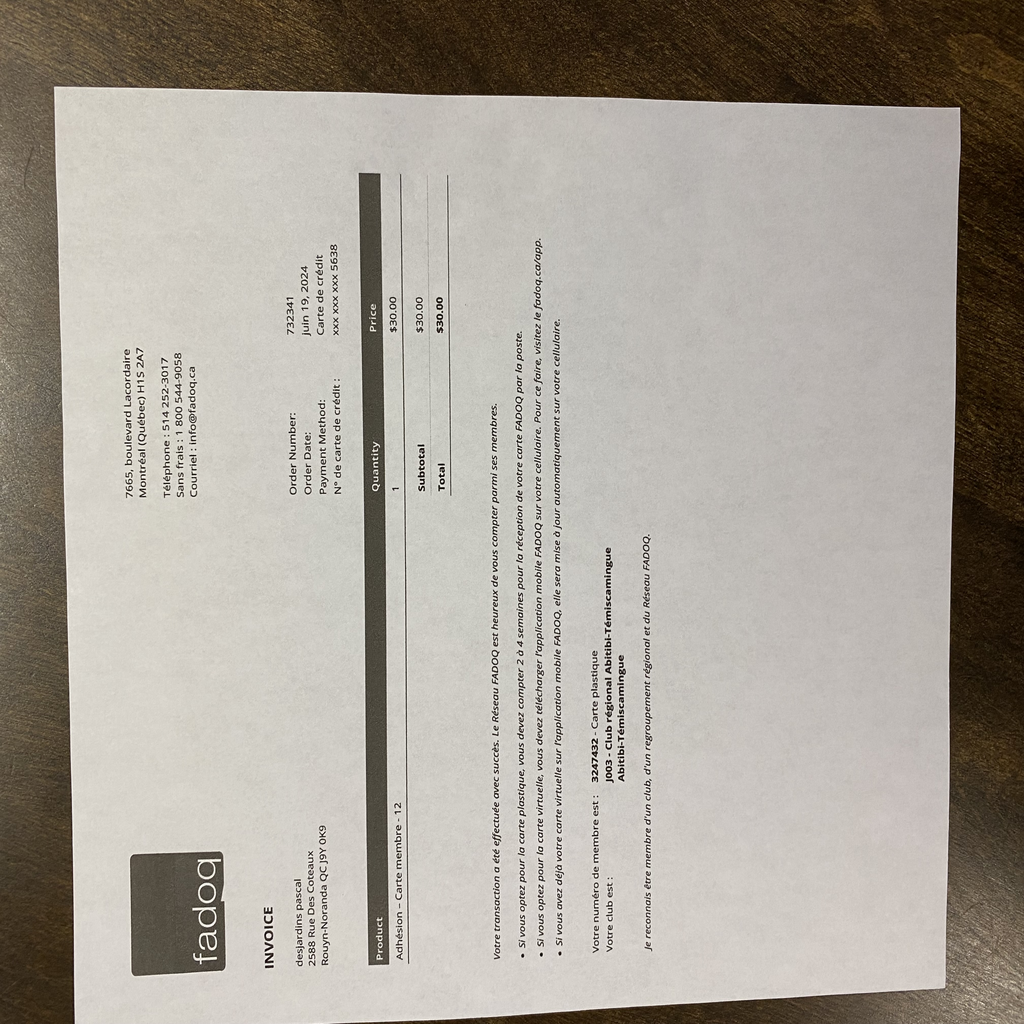recipt: (50, 82, 959, 1024)
